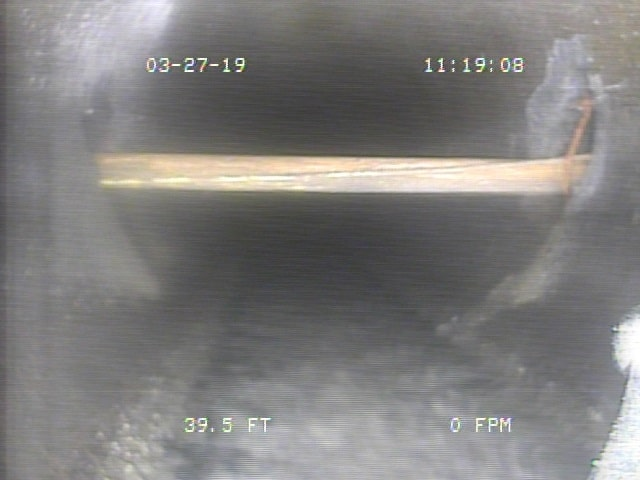cb: (75, 137, 610, 232)
